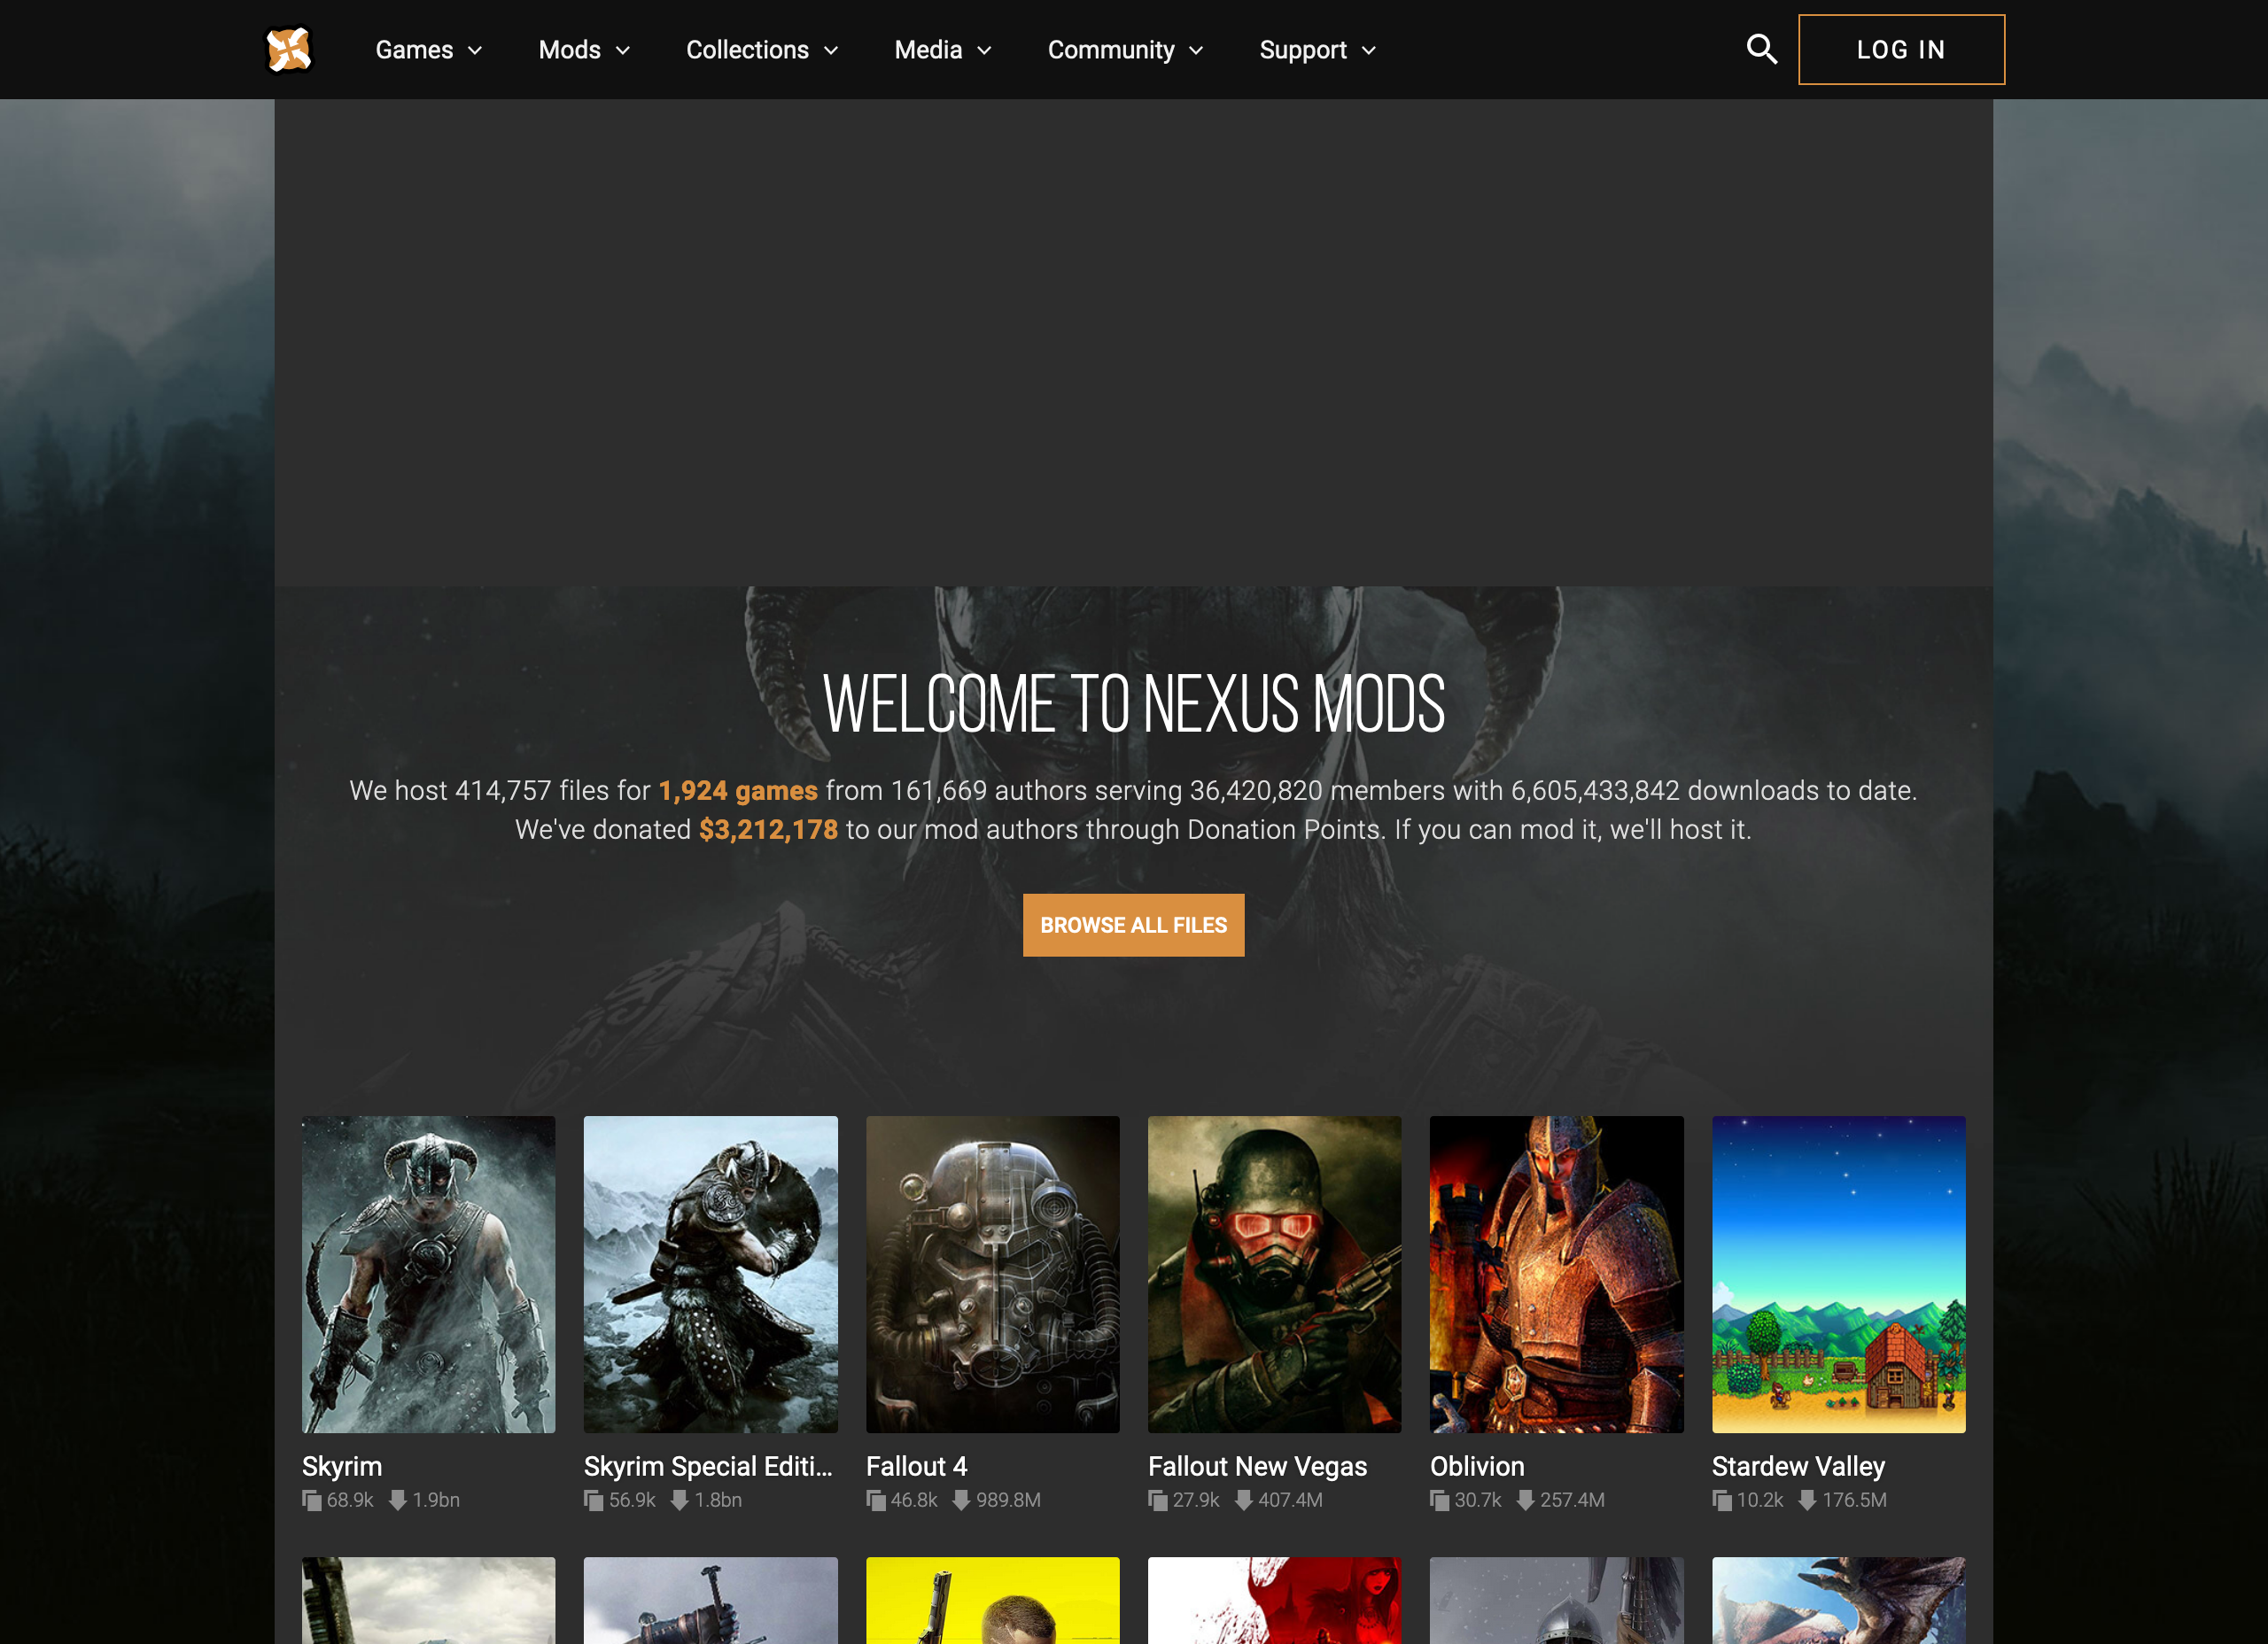Login: (1787, 14, 2014, 93)
